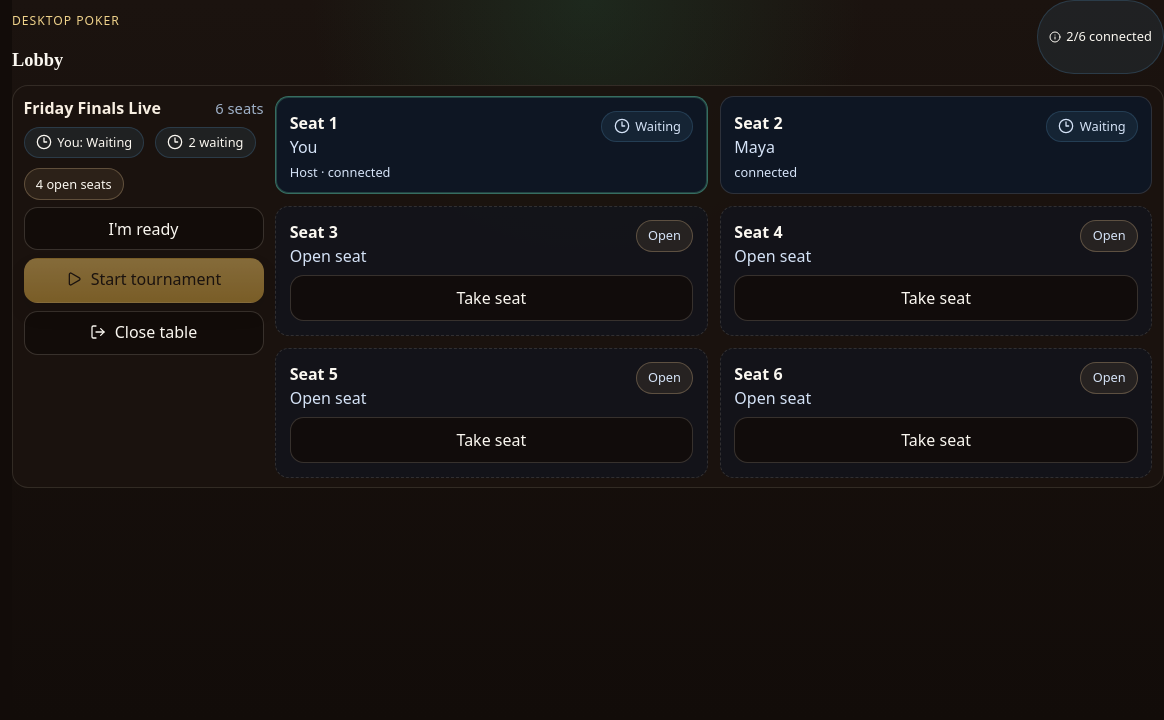
TournamentLobbyScreen › updates the local ready badge from the live host mutation path
The image size is (1164, 720).
expect the text "You: Waiting" is shown: met, box top-left (24, 127), bottom-right (144, 158)
Click the button "I'm ready".
click(144, 229)  # box top-left (24, 207), bottom-right (264, 250)
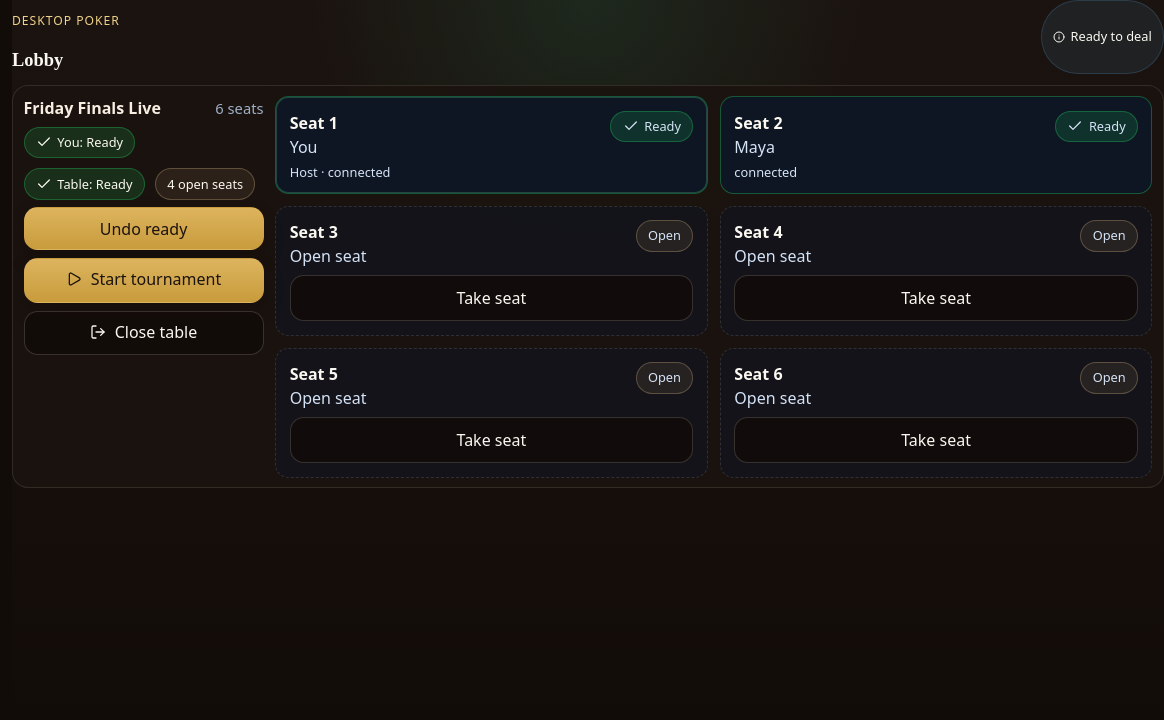
expect the button "Start tournament" is shown: met, box top-left (24, 258), bottom-right (264, 303)
expect the text "You: Ready" is shown: met, box top-left (24, 127), bottom-right (135, 158)
expect the text "Table: Ready" is shown: met, box top-left (24, 168), bottom-right (145, 200)
